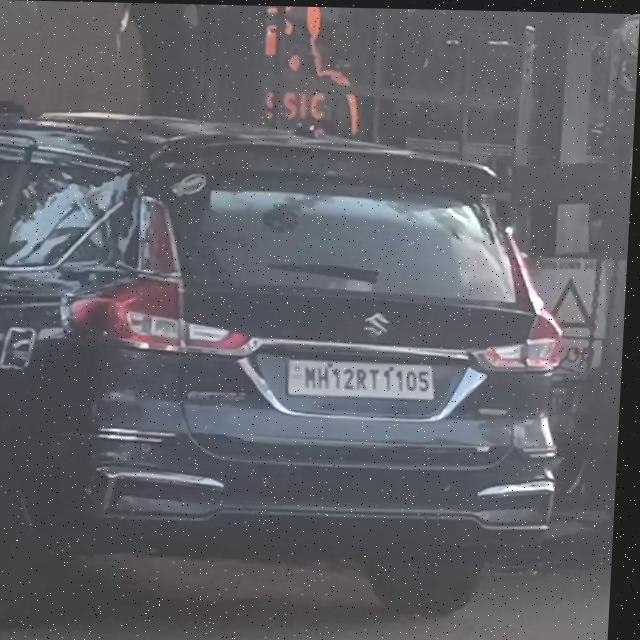plate: (291, 355, 443, 399)
